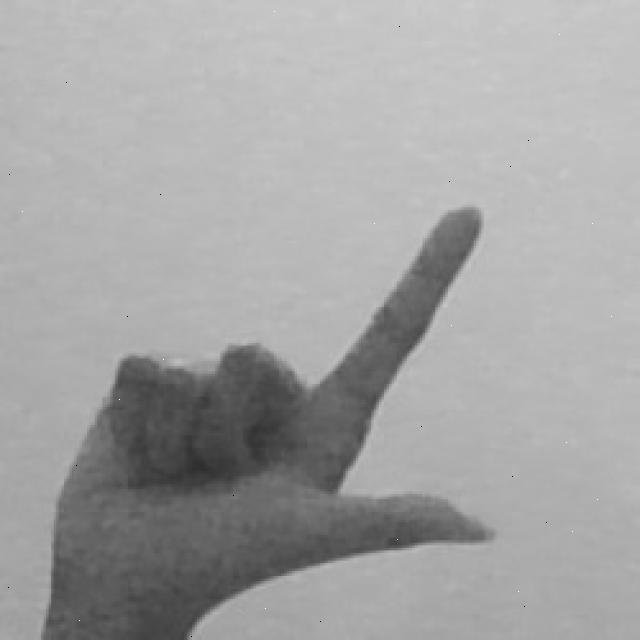L: (28, 192, 499, 640)
